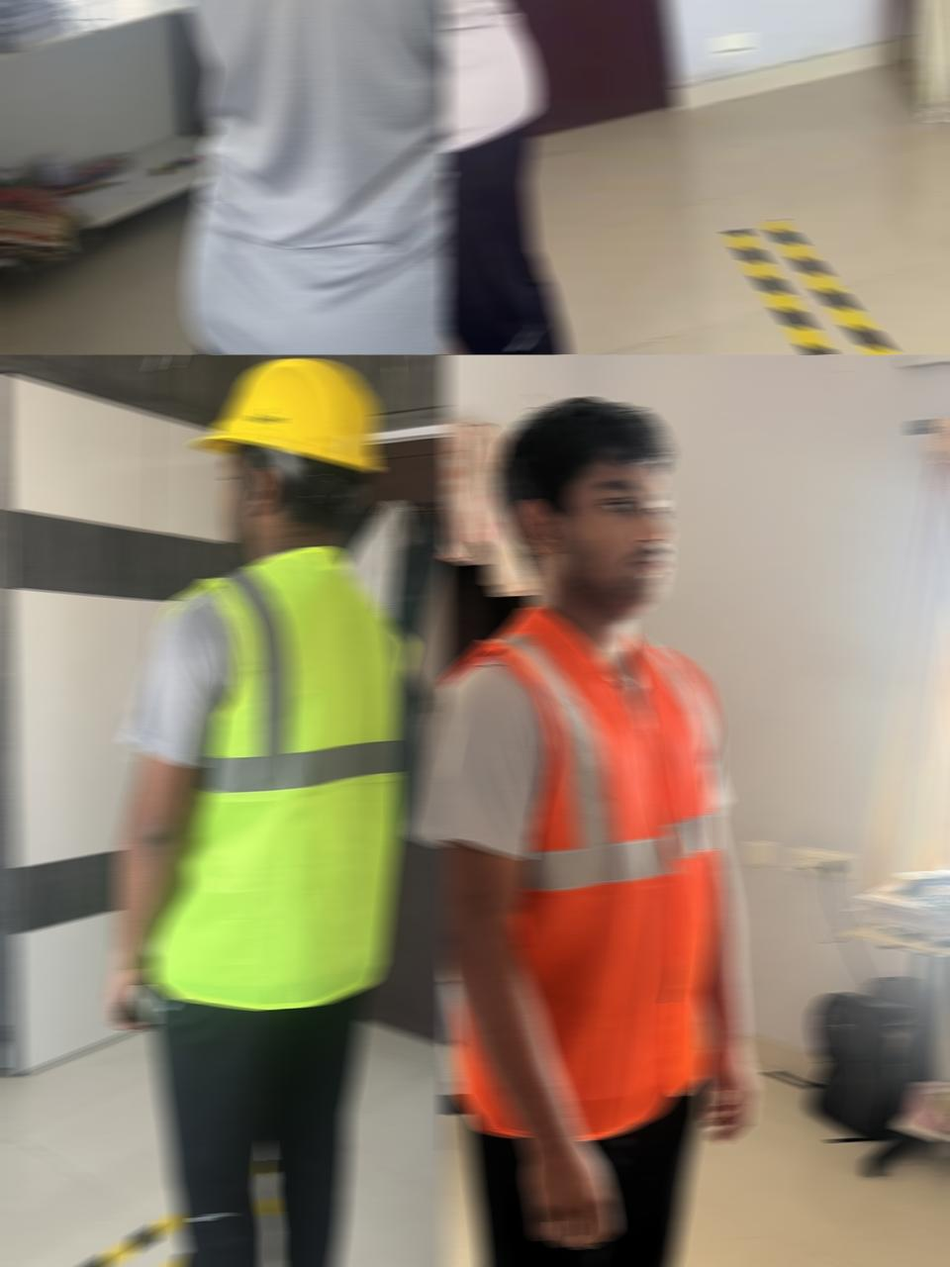BorderLine: (725, 215, 950, 354), (0, 1157, 282, 1267)
Helmet: (192, 355, 383, 473)
No_Helmet: (491, 395, 672, 617)
No_Vest: (168, 0, 450, 354), (443, 0, 544, 156)
Person: (102, 355, 419, 1267), (443, 395, 758, 1267), (168, 0, 450, 354), (443, 0, 590, 354)
Vest: (443, 604, 729, 1140), (145, 543, 418, 1012)
